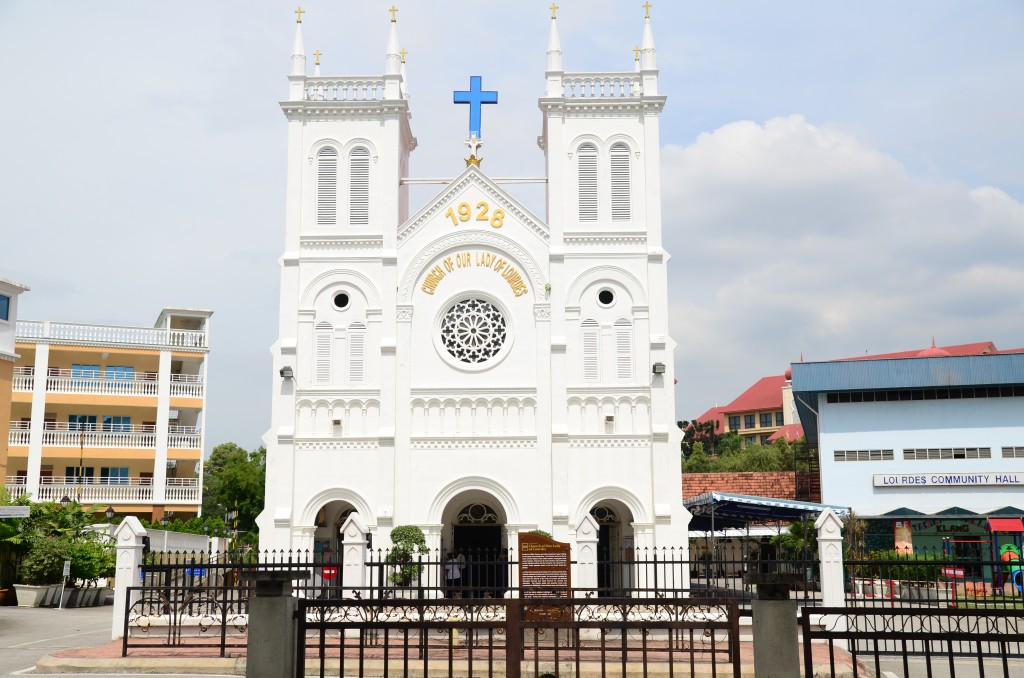Church: (271, 1, 702, 575)
